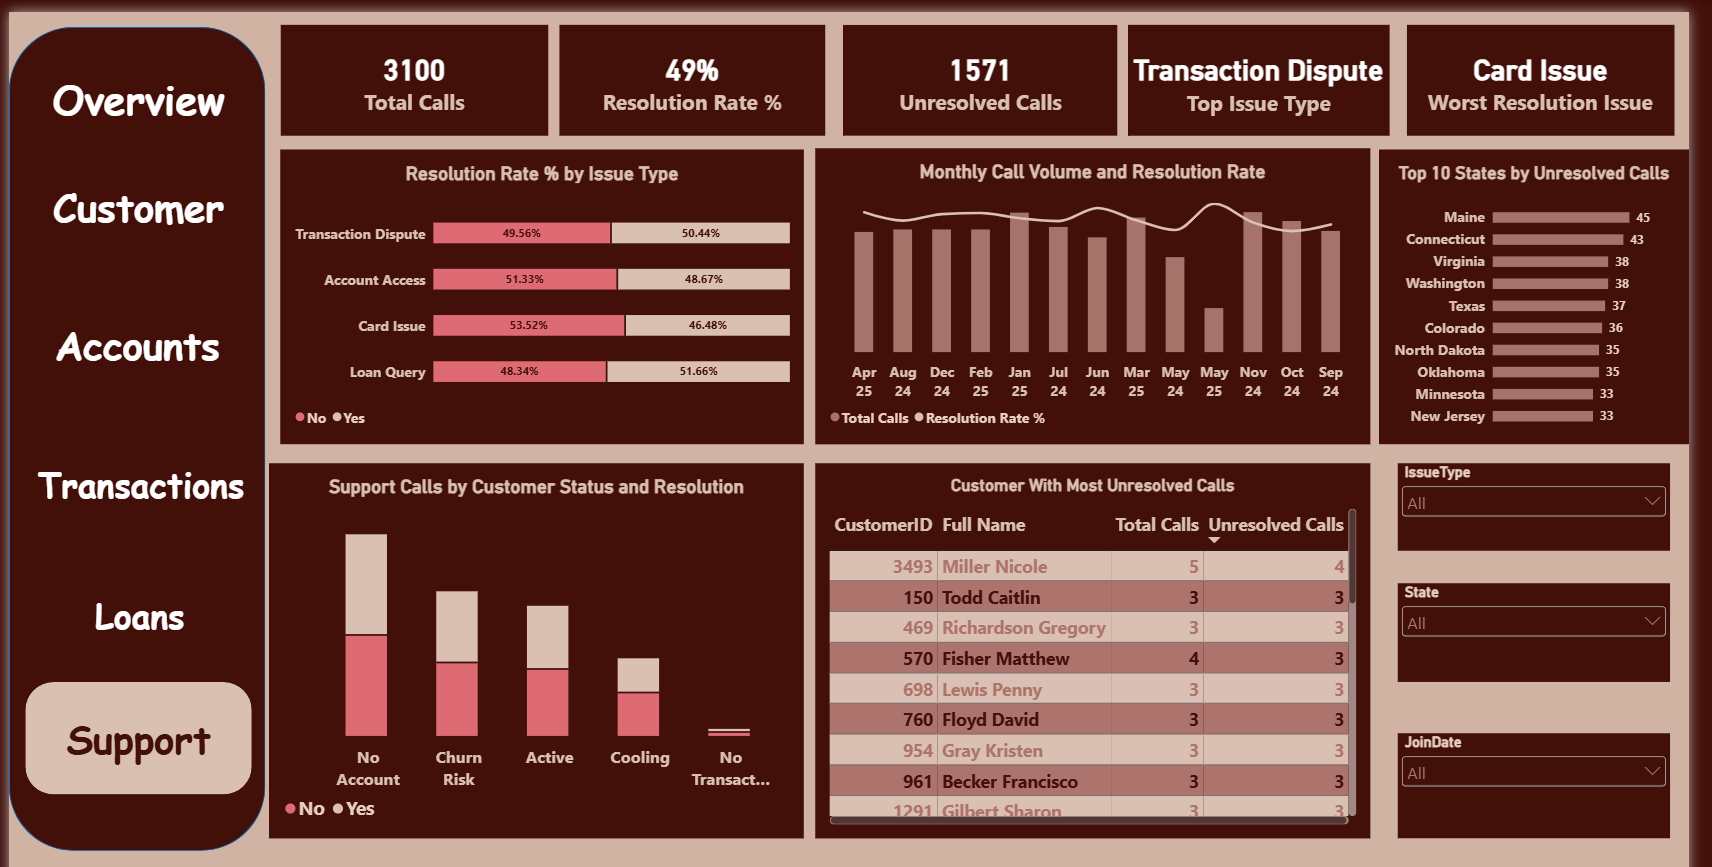

The page's visual inventory and layout, read from the dashboard file:
{"tool":"powerbi","page":{"name":"Support","canvas":[1920,1080],"ordinal":6},"visuals":[{"type":"shape","box":[0,17.1,292.9,941.4],"z":0},{"type":"shape","box":[18.6,41.4,258.9,116.1],"z":1000},{"type":"shape","box":[17.1,315.7,258.9,128.6],"z":2000},{"type":"shape","box":[21.4,475.7,258.9,128.6],"z":3000},{"type":"shape","box":[20,625.7,258.9,128.6],"z":4000},{"type":"shape","box":[18.6,157.1,258.9,128.6],"z":5000},{"type":"shape","box":[18.6,765.7,258.9,128.6],"z":6000},{"type":"advanceCardE03760C5AB684758B56AA29F9E6C257B","fields":{"mainMeasure":["Card_Measures.Total Calls"]},"box":[294.3,0,338.6,157.1],"z":7000},{"type":"advanceCardE03760C5AB684758B56AA29F9E6C257B","fields":{"mainMeasure":["Card_Measures.Resolution Rate %"]},"box":[612.9,0,335.7,157.1],"z":8000},{"type":"advanceCardE03760C5AB684758B56AA29F9E6C257B","fields":{"mainMeasure":["Card_Measures.Unresolved Calls"]},"box":[937.1,0,345.7,157.1],"z":9000},{"type":"advanceCardE03760C5AB684758B56AA29F9E6C257B","fields":{"mainMeasure":["Card_Measures.Top Issue Type"]},"box":[1262.9,0,331.4,157.1],"z":10000},{"type":"advanceCardE03760C5AB684758B56AA29F9E6C257B","fields":{"mainMeasure":["Card_Measures.Worst Resolution Issue"]},"box":[1581.4,0,338.6,157.1],"z":11000},{"type":"hundredPercentStackedBarChart","title":"Resolution Rate % by Issue Type ","fields":{"Category":["SupportCalls.IssueType"],"Series":["SupportCalls.Resolved"],"Y":["Card_Measures.Total Calls"]},"box":[310,157.1,598.6,337.1],"z":12000},{"type":"lineClusteredColumnComboChart","title":"Monthly Call Volume and Resolution Rate","fields":{"Category":["SupportCalls.Call Month Name"],"Y":["Card_Measures.Total Calls"],"Y2":["Card_Measures.Resolution Rate %"]},"box":[921.4,155.7,634.3,338.6],"z":13000},{"type":"columnChart","title":"Support Calls by Customer Status and Resolution","fields":{"Category":["customers.Customer Status"],"Series":["SupportCalls.Resolved"],"Y":["Card_Measures.Total Calls"]},"box":[297.1,515.7,611.4,428.6],"z":14000},{"type":"clusteredBarChart","title":"Top 10 States by Unresolved Calls","fields":{"Category":["customers.State"],"Y":["Card_Measures.Unresolved Calls"]},"box":[1565.7,157.1,354.3,337.1],"z":15000},{"type":"tableEx","title":"Customer With Most Unresolved Calls","fields":{"Values":["customers.CustomerID","customers.Full Name","Card_Measures.Total Calls","Card_Measures.Unresolved Calls"]},"box":[921.4,515.7,634.3,428.6],"z":16000},{"type":"slicer","fields":{"Values":["SupportCalls.IssueType"]},"box":[1587.1,516.1,311.4,100],"z":17000},{"type":"slicer","fields":{"Values":["customers.State"]},"box":[1587.1,652.9,311.4,112.9],"z":18000},{"type":"slicer","fields":{"Values":["customers.JoinDate"]},"box":[1587.1,823.8,311.4,120],"z":19000}]}

Visuals, with their boxes on the page's 1920x1080 design canvas (x1, y1, x2, y2). These are canvas units, not pixel positions in the 1712x867 screenshot, which may show the page scaled, cropped or inside an application window:
shape: (x1=0, y1=17, x2=293, y2=958)
shape: (x1=19, y1=41, x2=278, y2=158)
shape: (x1=17, y1=316, x2=276, y2=444)
shape: (x1=21, y1=476, x2=280, y2=604)
shape: (x1=20, y1=626, x2=279, y2=754)
shape: (x1=19, y1=157, x2=278, y2=286)
shape: (x1=19, y1=766, x2=278, y2=894)
advanceCardE03760C5AB684758B56AA29F9E6C257B - Card_Measures.Total Calls: (x1=294, y1=0, x2=633, y2=157)
advanceCardE03760C5AB684758B56AA29F9E6C257B - Card_Measures.Resolution Rate %: (x1=613, y1=0, x2=949, y2=157)
advanceCardE03760C5AB684758B56AA29F9E6C257B - Card_Measures.Unresolved Calls: (x1=937, y1=0, x2=1283, y2=157)
advanceCardE03760C5AB684758B56AA29F9E6C257B - Card_Measures.Top Issue Type: (x1=1263, y1=0, x2=1594, y2=157)
advanceCardE03760C5AB684758B56AA29F9E6C257B - Card_Measures.Worst Resolution Issue: (x1=1581, y1=0, x2=1920, y2=157)
"Resolution Rate % by Issue Type " hundredPercentStackedBarChart: (x1=310, y1=157, x2=909, y2=494)
"Monthly Call Volume and Resolution Rate" lineClusteredColumnComboChart: (x1=921, y1=156, x2=1556, y2=494)
"Support Calls by Customer Status and Resolution" columnChart: (x1=297, y1=516, x2=908, y2=944)
"Top 10 States by Unresolved Calls" clusteredBarChart: (x1=1566, y1=157, x2=1920, y2=494)
"Customer With Most Unresolved Calls" tableEx: (x1=921, y1=516, x2=1556, y2=944)
slicer - SupportCalls.IssueType: (x1=1587, y1=516, x2=1898, y2=616)
slicer - customers.State: (x1=1587, y1=653, x2=1898, y2=766)
slicer - customers.JoinDate: (x1=1587, y1=824, x2=1898, y2=944)
